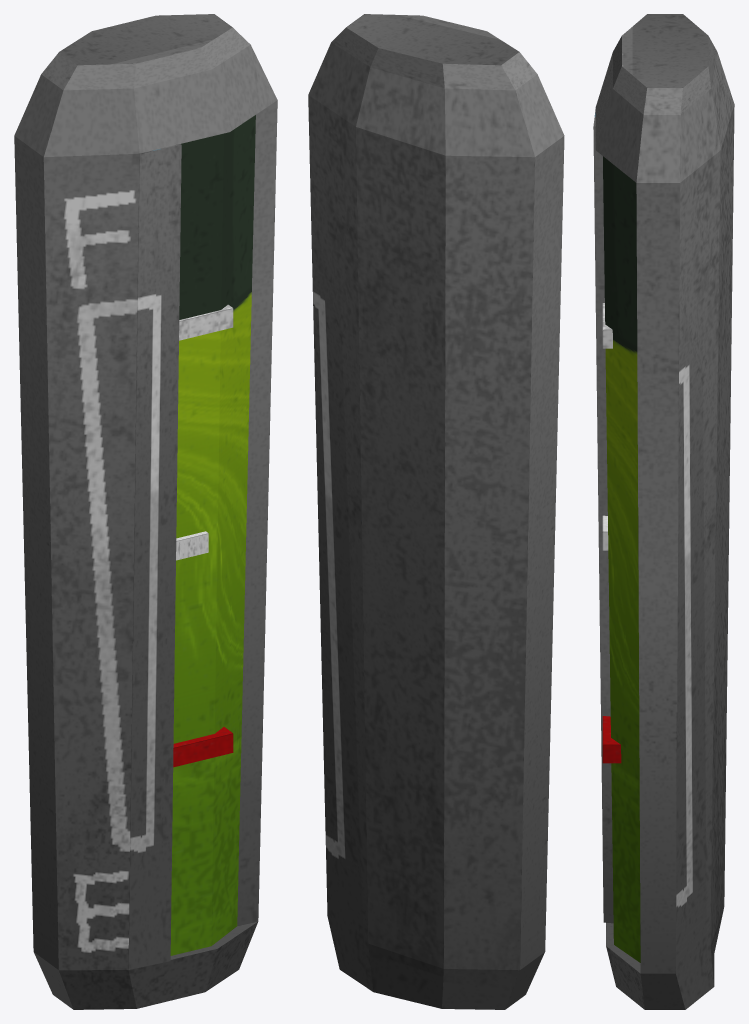
Rendered from fuelgauge.obj.
The picture shows the model from 3 angles, left to right: view 1: azimuth 30°, elevation 25°; view 2: azimuth 150°, elevation 25°; view 3: azimuth 270°, elevation 25°; orthographic projection. The views are drawn at different scales.
Parts seen in each view (by area): view 1: cube, sphere; view 2: cube; view 3: cube, sphere.
Part boxes in pixels (left/top/right/bottom): cube: left=14, top=14, right=277, bottom=1009; sphere: left=170, top=115, right=255, bottom=955; cube: left=308, top=14, right=564, bottom=1009; cube: left=593, top=14, right=734, bottom=1009; sphere: left=603, top=156, right=640, bottom=962.
Size of the model in its own units: 0.2375 by 0.9143 by 0.1271.
